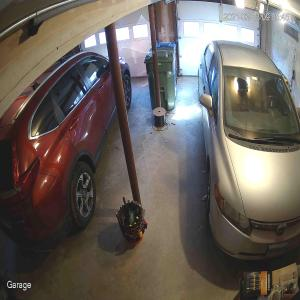garbage bin: (144, 40, 177, 112)
honda civic: (196, 37, 300, 266)
honda crv: (0, 48, 132, 251)
tool bucket: (114, 194, 150, 248)
